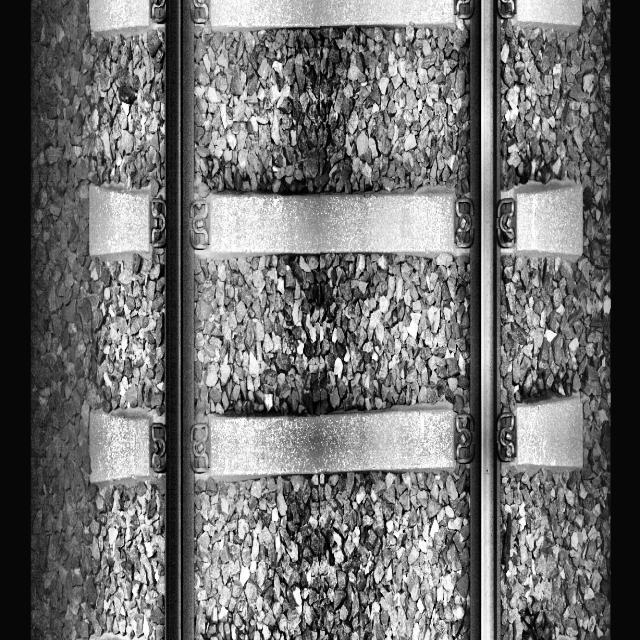Clips: (452, 196, 474, 249), (189, 200, 211, 250), (496, 412, 517, 463), (454, 412, 474, 464), (190, 423, 209, 473), (497, 198, 516, 248), (148, 198, 167, 246), (150, 423, 166, 473), (189, 0, 210, 22), (148, 0, 166, 23), (496, 0, 516, 20), (454, 0, 474, 18)
Sleepers: (89, 183, 583, 262), (87, 405, 584, 481), (88, 0, 582, 31)
